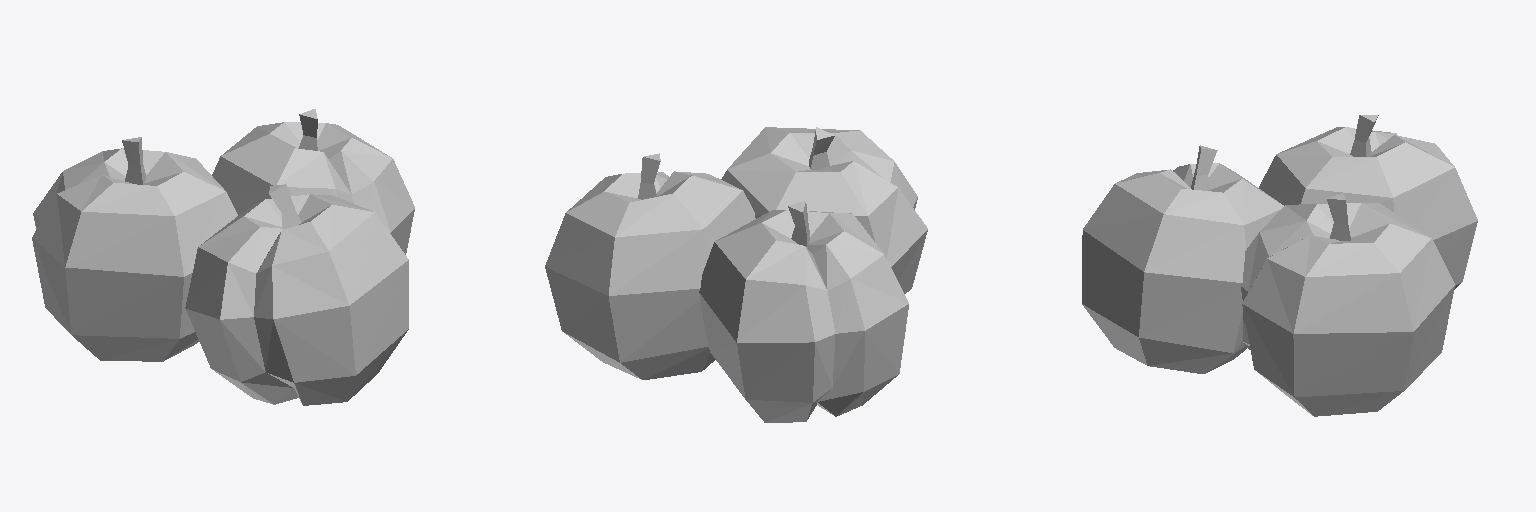
The model's file is SM_Prop_Plum_01_Group.obj.
3 renders of one model, left to right at view 1: azimuth 30°, elevation 25°; view 2: azimuth 150°, elevation 25°; view 3: azimuth 270°, elevation 25°, orthographic.
Bounding box in the file's own units: 20.62 × 12.28 × 21.32.